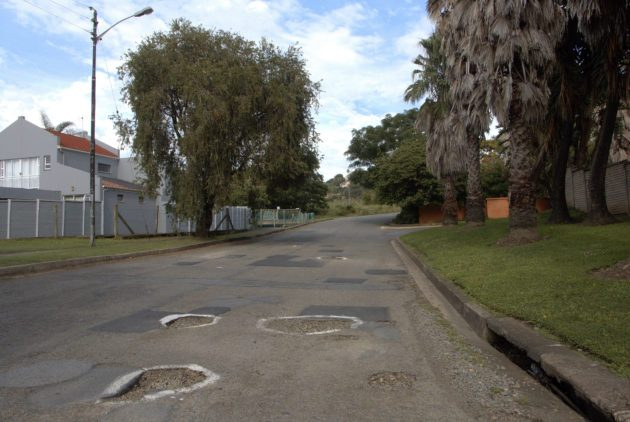pothole: (104, 356, 221, 408), (249, 311, 367, 335), (154, 302, 229, 337), (364, 364, 419, 395)
